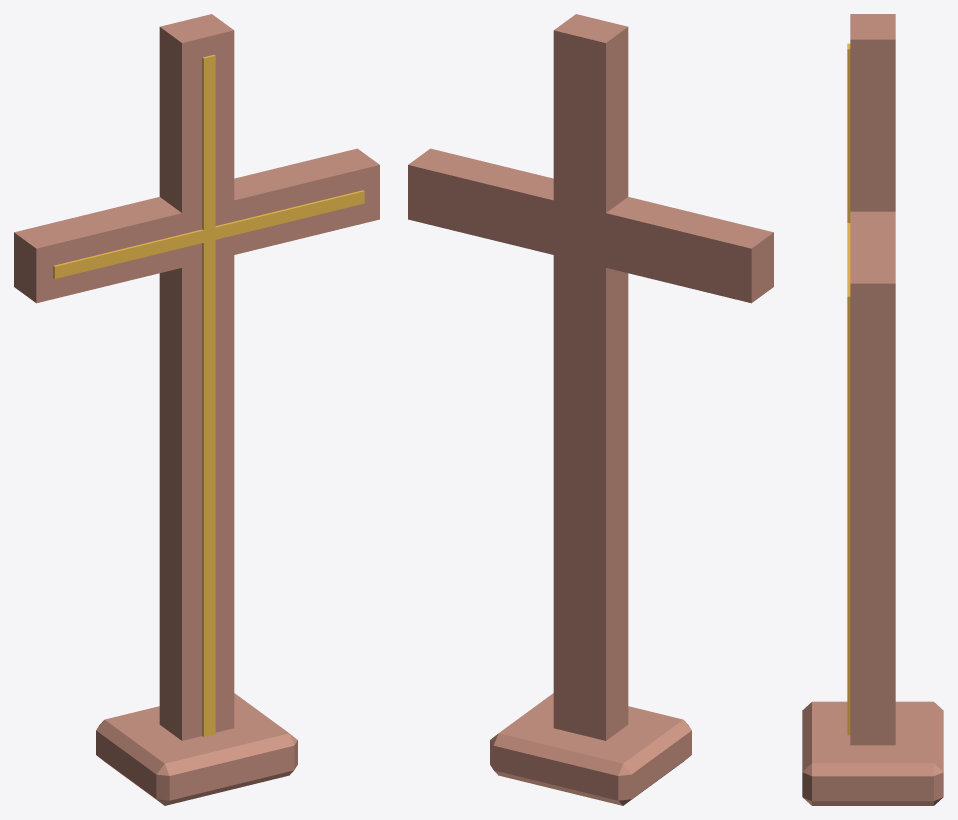
3 views of the same model, side by side, from view 1: azimuth 30°, elevation 25°; view 2: azimuth 150°, elevation 25°; view 3: azimuth 270°, elevation 25° (orthographic).
Visible parts, largest first — view 1: Single joined wooden cross, Single joined inset cross, Stepped plinth; view 2: Single joined wooden cross, Stepped plinth; view 3: Single joined wooden cross, Stepped plinth, Single joined inset cross.
Boxes of the visible parts, x1,y1,x2,y2 form: Single joined wooden cross: (14,14,379,740); Single joined inset cross: (53,55,364,736); Stepped plinth: (96,693,297,805); Single joined wooden cross: (408,14,773,740); Stepped plinth: (490,693,691,805); Single joined wooden cross: (850,14,895,745); Stepped plinth: (802,701,943,805); Single joined inset cross: (847,43,850,735).
Bounding box in the file's own units: 1.02 × 2.1 × 0.36.
Materials: 1 (1 with a texture image).
